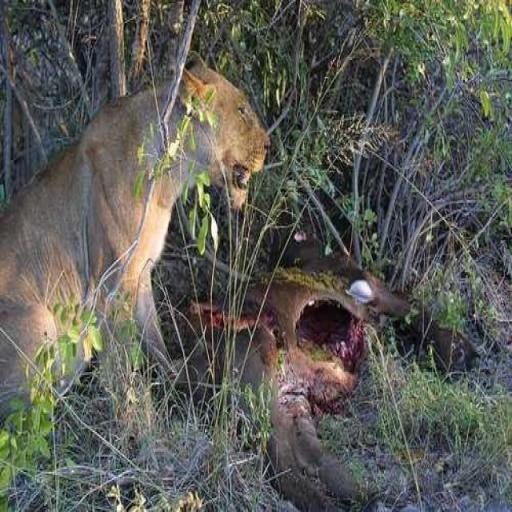Lion: (0, 48, 271, 424)
